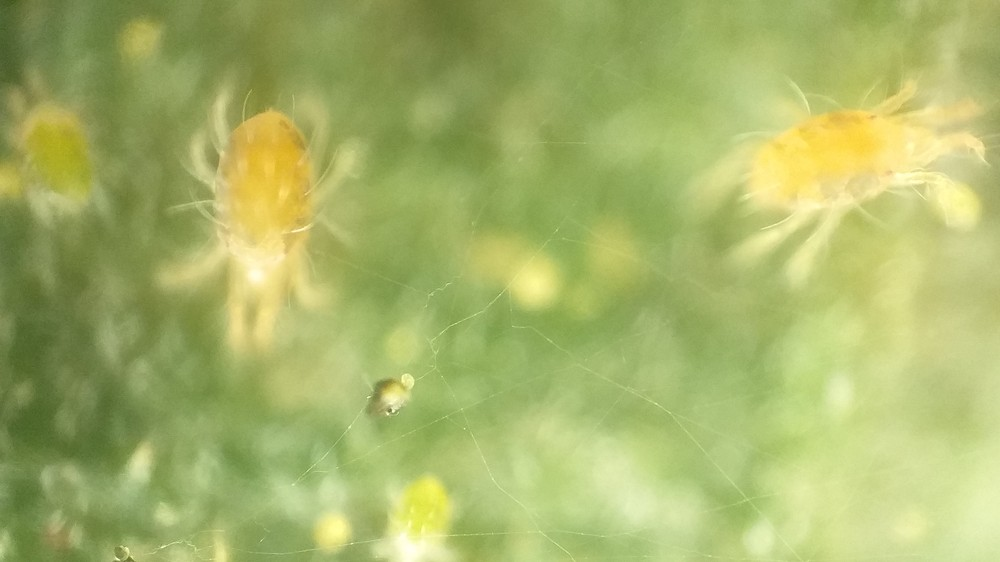Aracnido Rojo: (683, 56, 998, 282), (148, 82, 356, 362), (11, 79, 121, 245)
